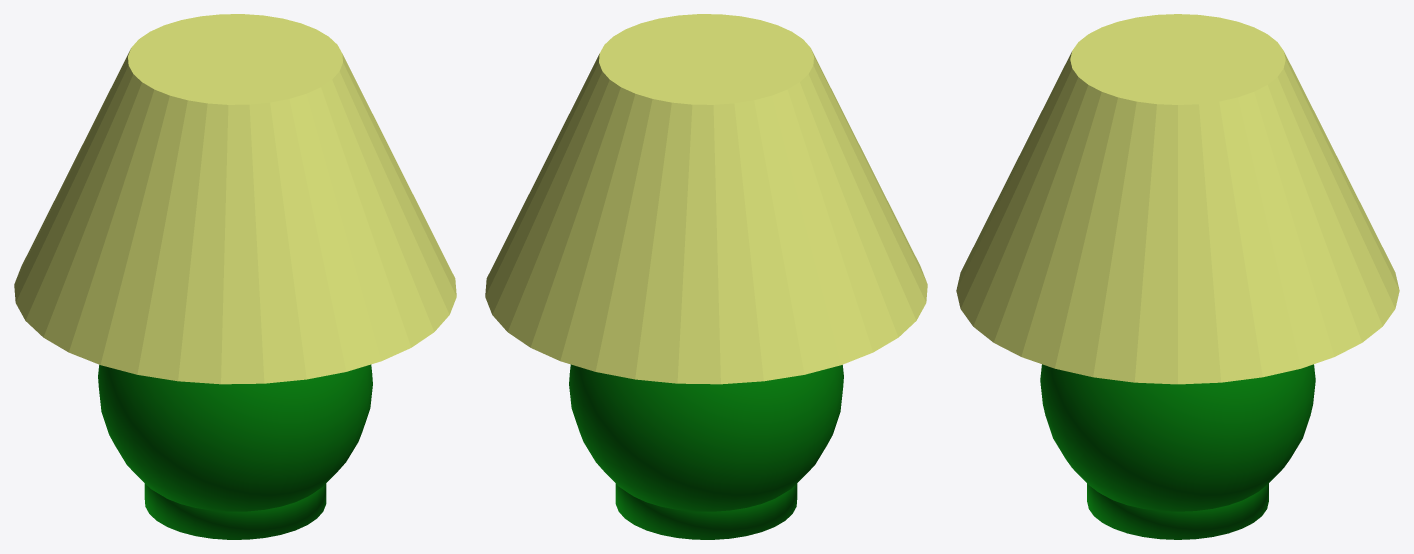
File: lamp.fbx
3 views of the same model, side by side, from view 1: azimuth 30°, elevation 25°; view 2: azimuth 150°, elevation 25°; view 3: azimuth 270°, elevation 25° (orthographic).
Parts seen in each view (by area): view 1: Cylinder.001, Sphere; view 2: Cylinder.001, Sphere; view 3: Cylinder.001, Sphere.
Boxes of the visible parts, <box> form: Cylinder.001: <box>14,14,456,384</box>; Sphere: <box>98,364,372,539</box>; Cylinder.001: <box>485,14,927,384</box>; Sphere: <box>569,364,843,539</box>; Cylinder.001: <box>956,14,1399,384</box>; Sphere: <box>1040,364,1315,539</box>.
Bounding box in the file's own units: 411 × 456 × 411.
